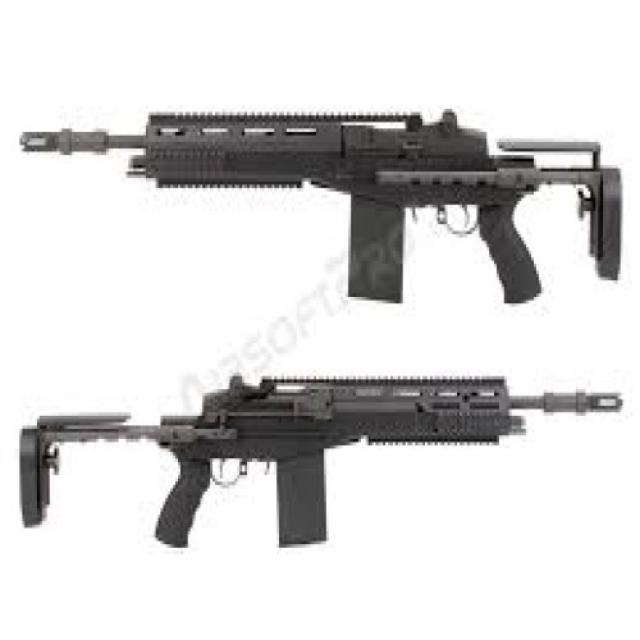Gun: (10, 330, 640, 558), (2, 102, 640, 299)
